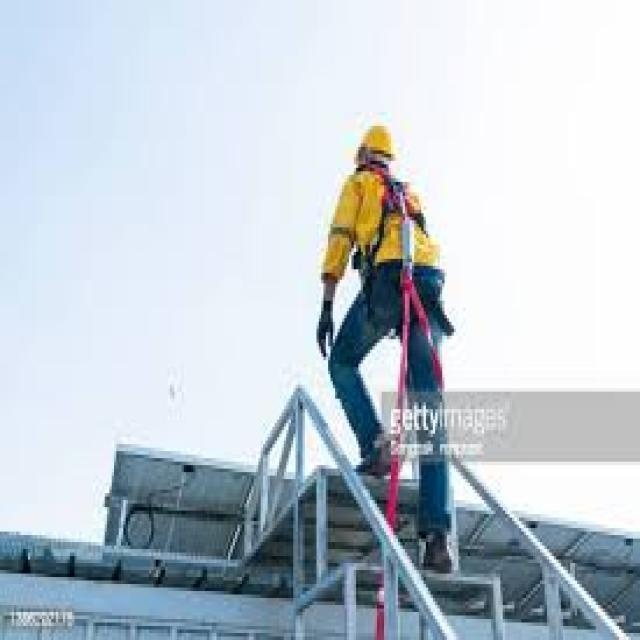Arnes_seguridad: (349, 157, 456, 339)
